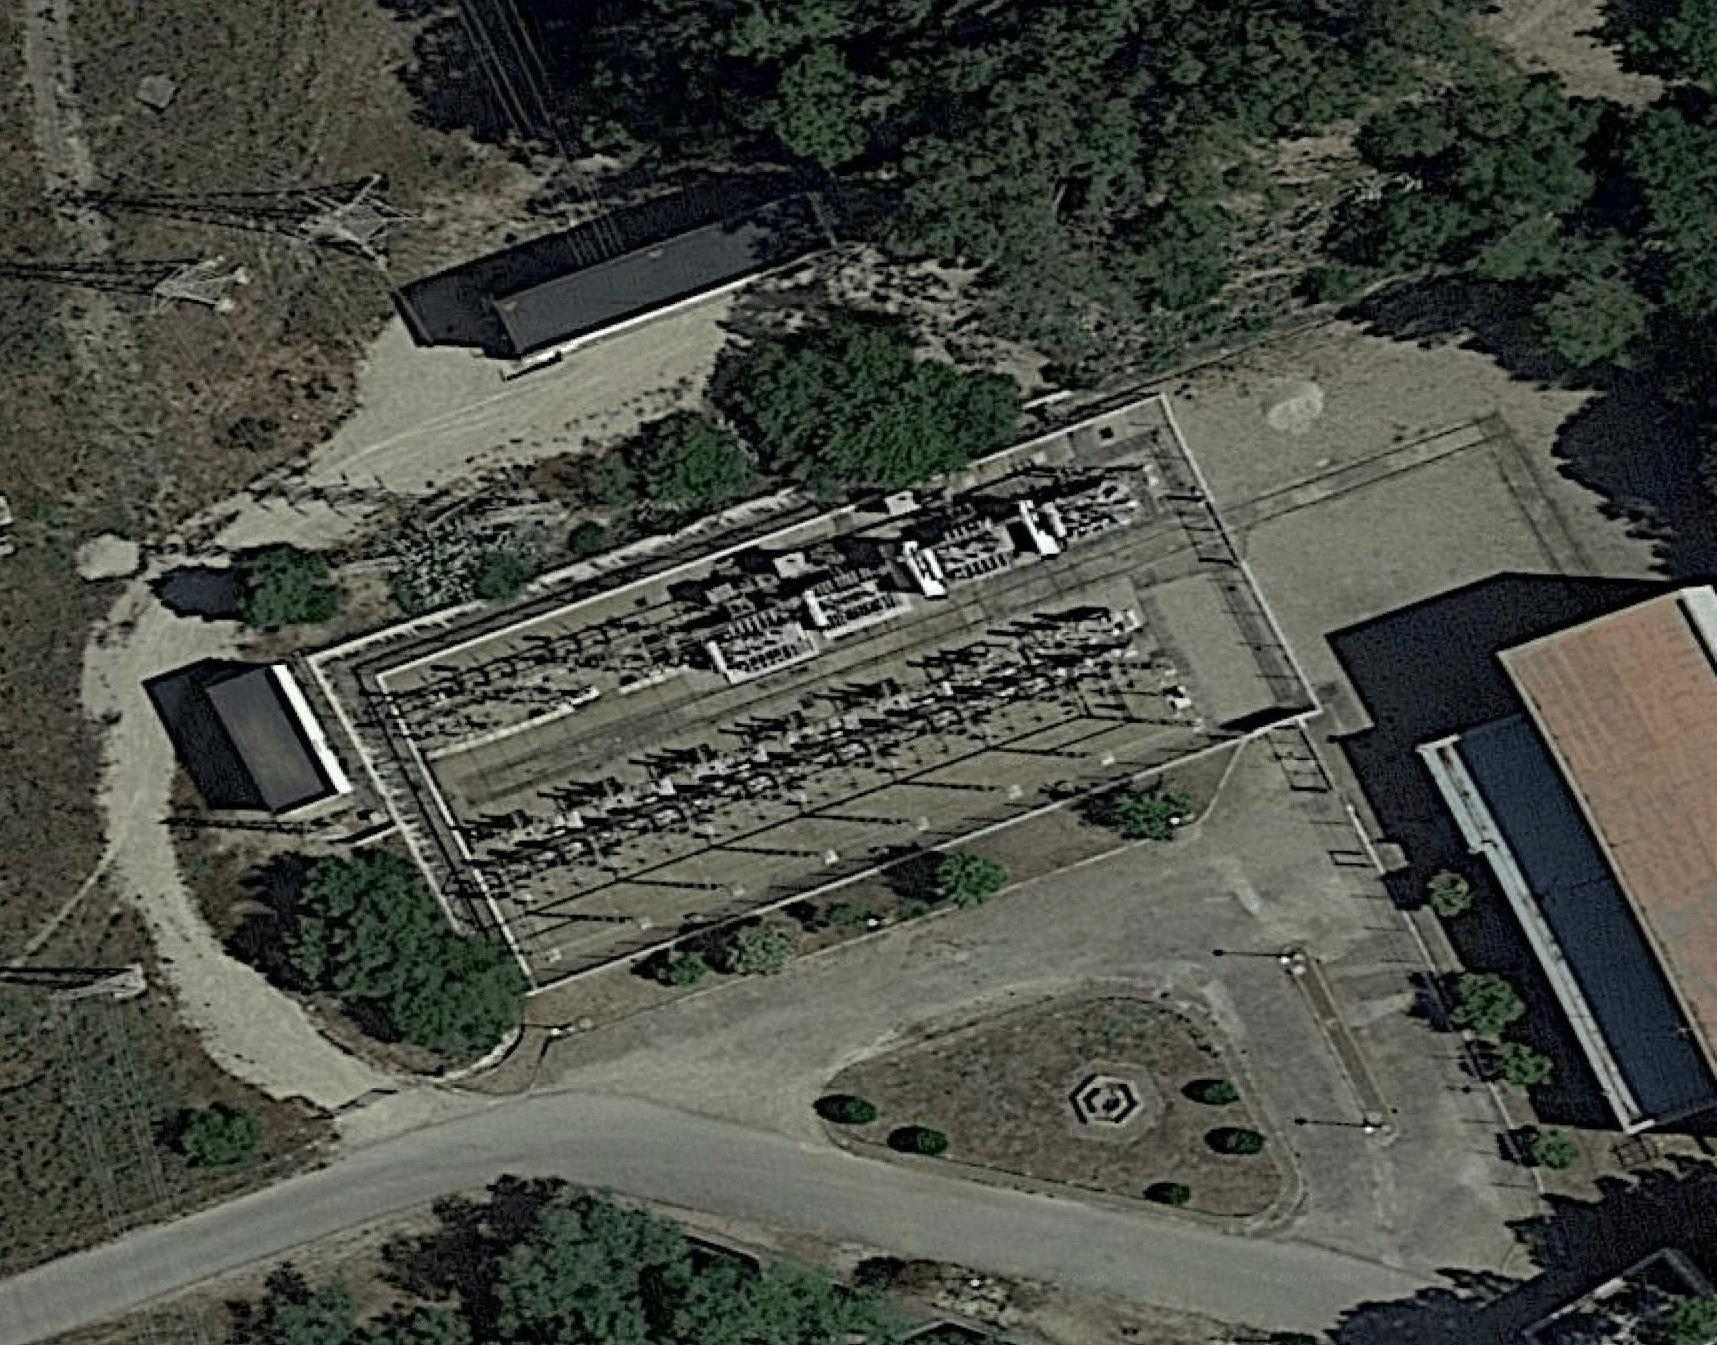substation: (362, 417, 1256, 953)
